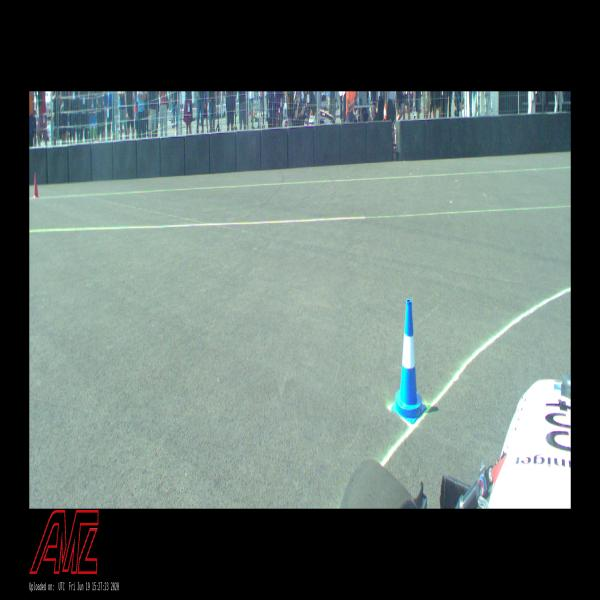blue_cone: (392, 300, 425, 423)
orange_cone: (32, 173, 39, 197)
